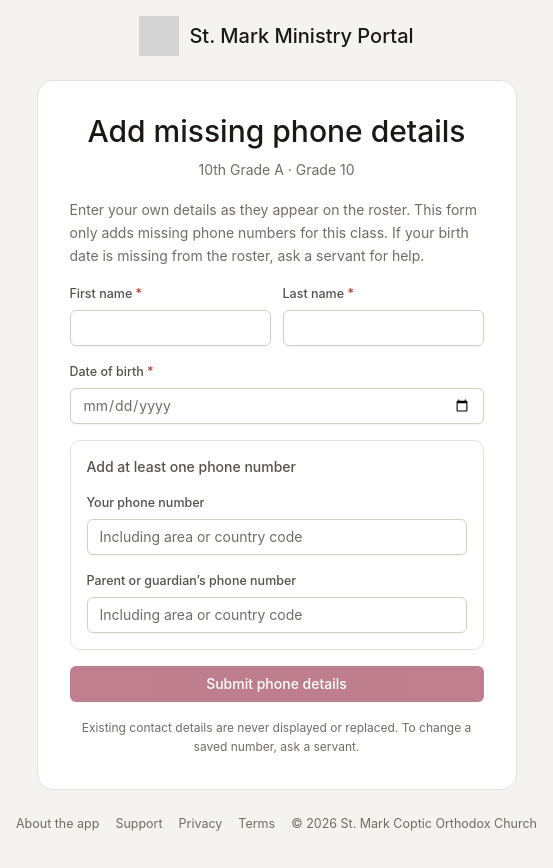
class contact form › keeps the form available after a rejected or rate-limited submission
Type "Mina" into the field labelled "First name *" at point(170, 328), box [70, 310, 270, 346]
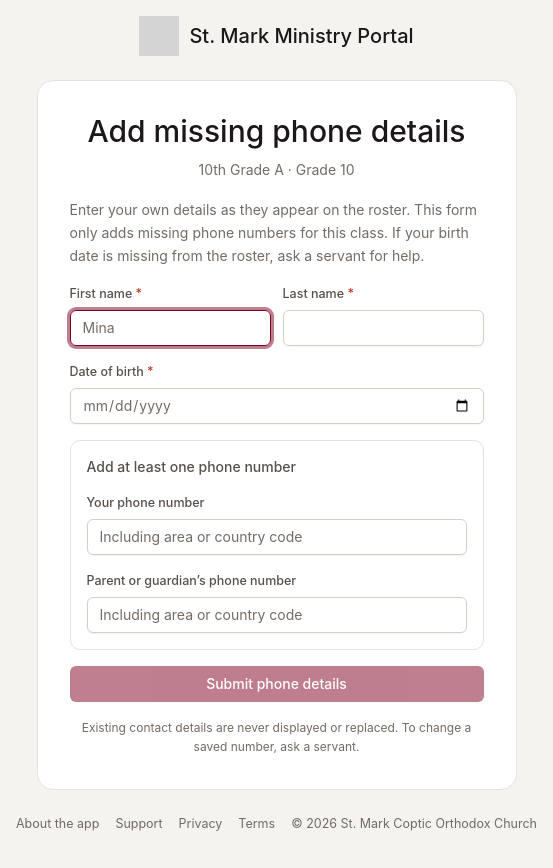
Type "Botros" into the field labelled "Last name *" at point(383, 328), box [282, 310, 484, 346]
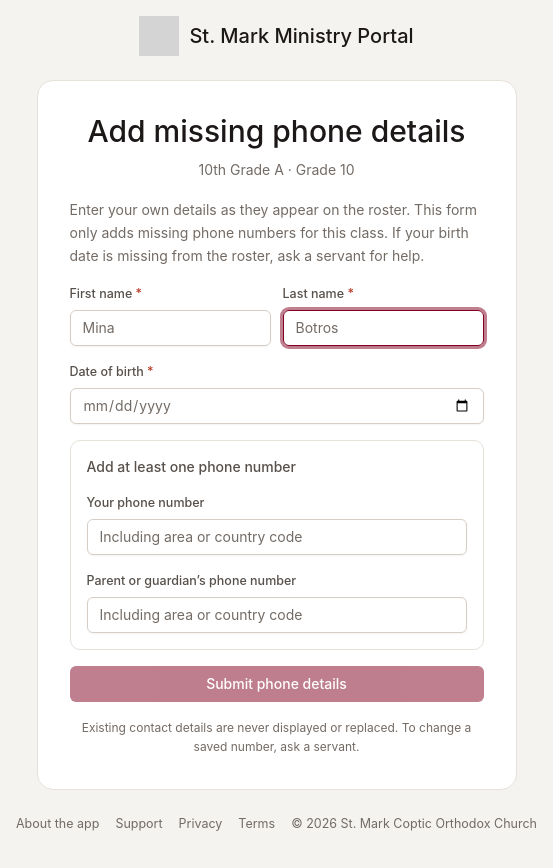
Type "2011-04-12" into the date field labelled "Date of birth *" at point(276, 406), box [70, 388, 484, 424]
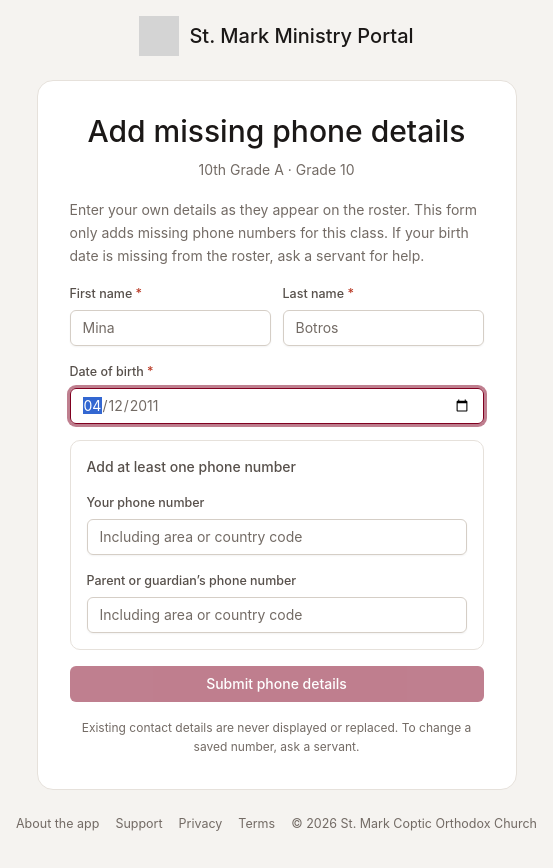
Type "2015550199" into the field labelled "Parent or guardian’s phone number" at point(276, 614), box [86, 596, 466, 632]
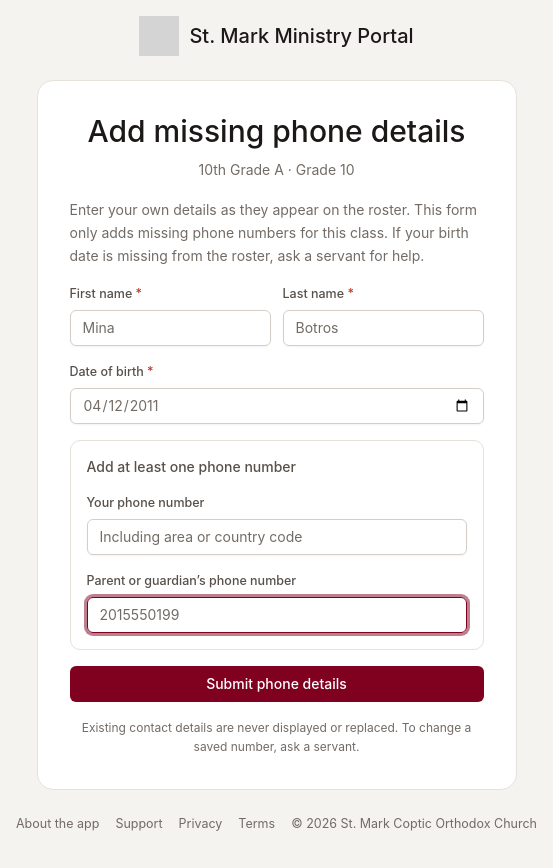
Click the button "Submit phone details" at point(276, 684), box [70, 666, 484, 702]
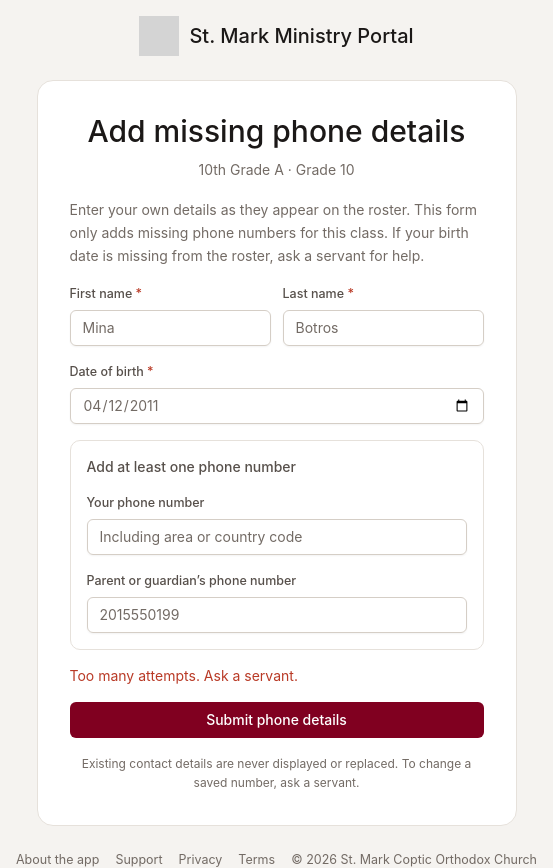
Result: the button "Submit phone details" is enabled at [70, 702, 484, 738]
Result: the message shows "Too many attempts" at [70, 666, 298, 684]
